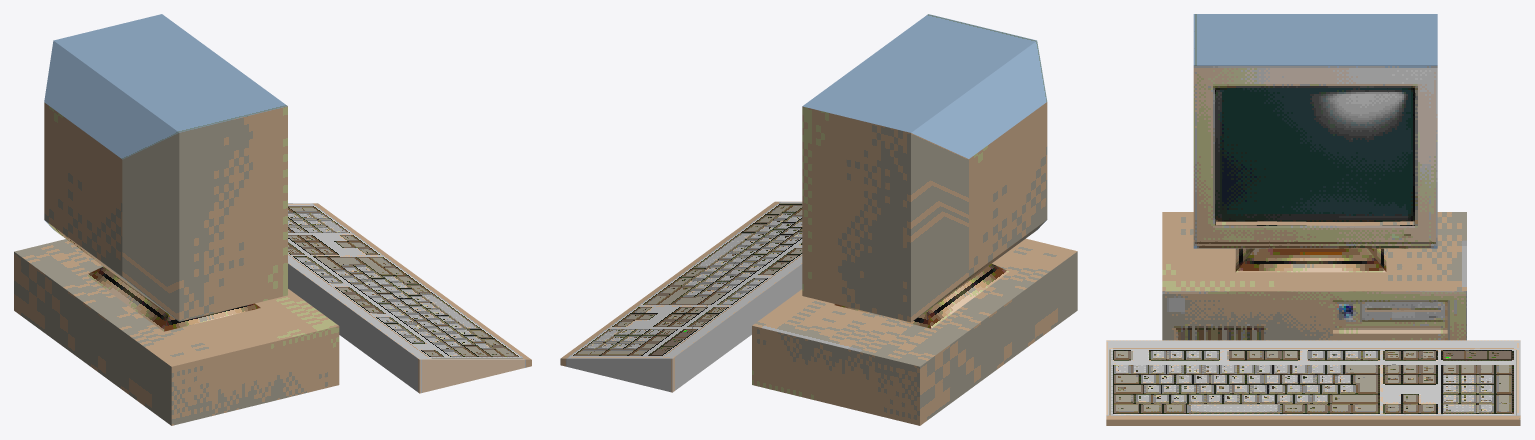
Rendered from Computer.glb.
The picture shows the model from 3 angles, left to right: view 1: azimuth 30°, elevation 25°; view 2: azimuth 150°, elevation 25°; view 3: azimuth 270°, elevation 25°; orthographic projection. The views are drawn at different scales.
Parts seen in each view (by area): view 1: Cube.010, Plane.011; view 2: Cube.010, Plane.011; view 3: Cube.010, Plane.011.
Part boxes in pixels (bbox=[...]): Cube.010: bbox=[14, 14, 339, 425]; Plane.011: bbox=[288, 203, 531, 393]; Cube.010: bbox=[752, 14, 1077, 425]; Plane.011: bbox=[560, 201, 802, 392]; Cube.010: bbox=[1162, 14, 1466, 340]; Plane.011: bbox=[1106, 340, 1520, 425].
Bounding box in the file's own units: 0.7469 × 0.5769 × 0.8124.
Materials: 2 (2 with a texture image).
